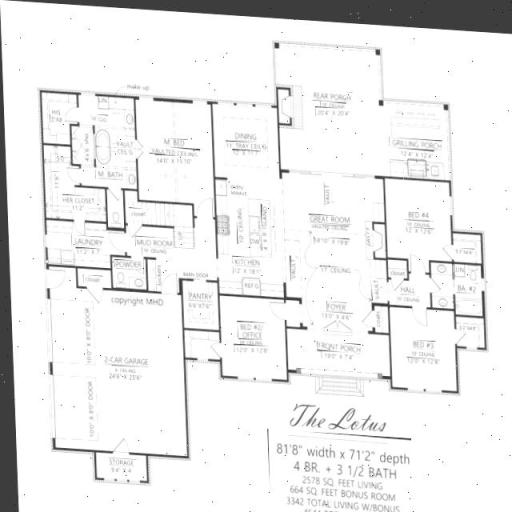Room: (137, 102, 209, 200), (136, 229, 184, 261)
bathroom: (78, 123, 135, 190), (454, 265, 485, 318)
bedroom: (392, 307, 458, 393), (221, 297, 286, 382), (388, 179, 451, 264)
garage: (48, 281, 190, 458)
hall: (286, 175, 385, 306)
kitchen: (217, 108, 281, 292)
laundary: (45, 218, 127, 268)
porch: (277, 44, 384, 172), (289, 327, 389, 381), (385, 103, 450, 177)
